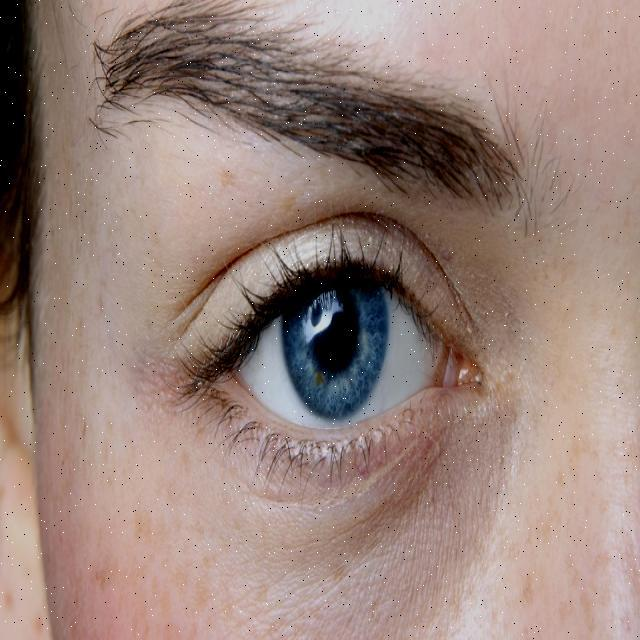Normal: (75, 93, 638, 632)
